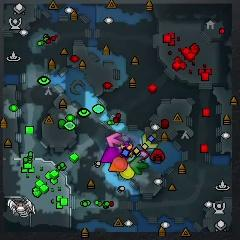p3: (101, 147, 121, 163)
p4: (119, 164, 135, 179)
p5: (108, 156, 127, 172)
x1: (106, 133, 123, 147)
x2: (142, 133, 159, 148)
x4: (130, 156, 148, 174)
